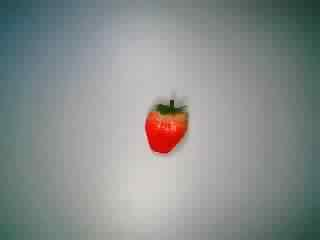strawberry: (133, 85, 192, 155)
